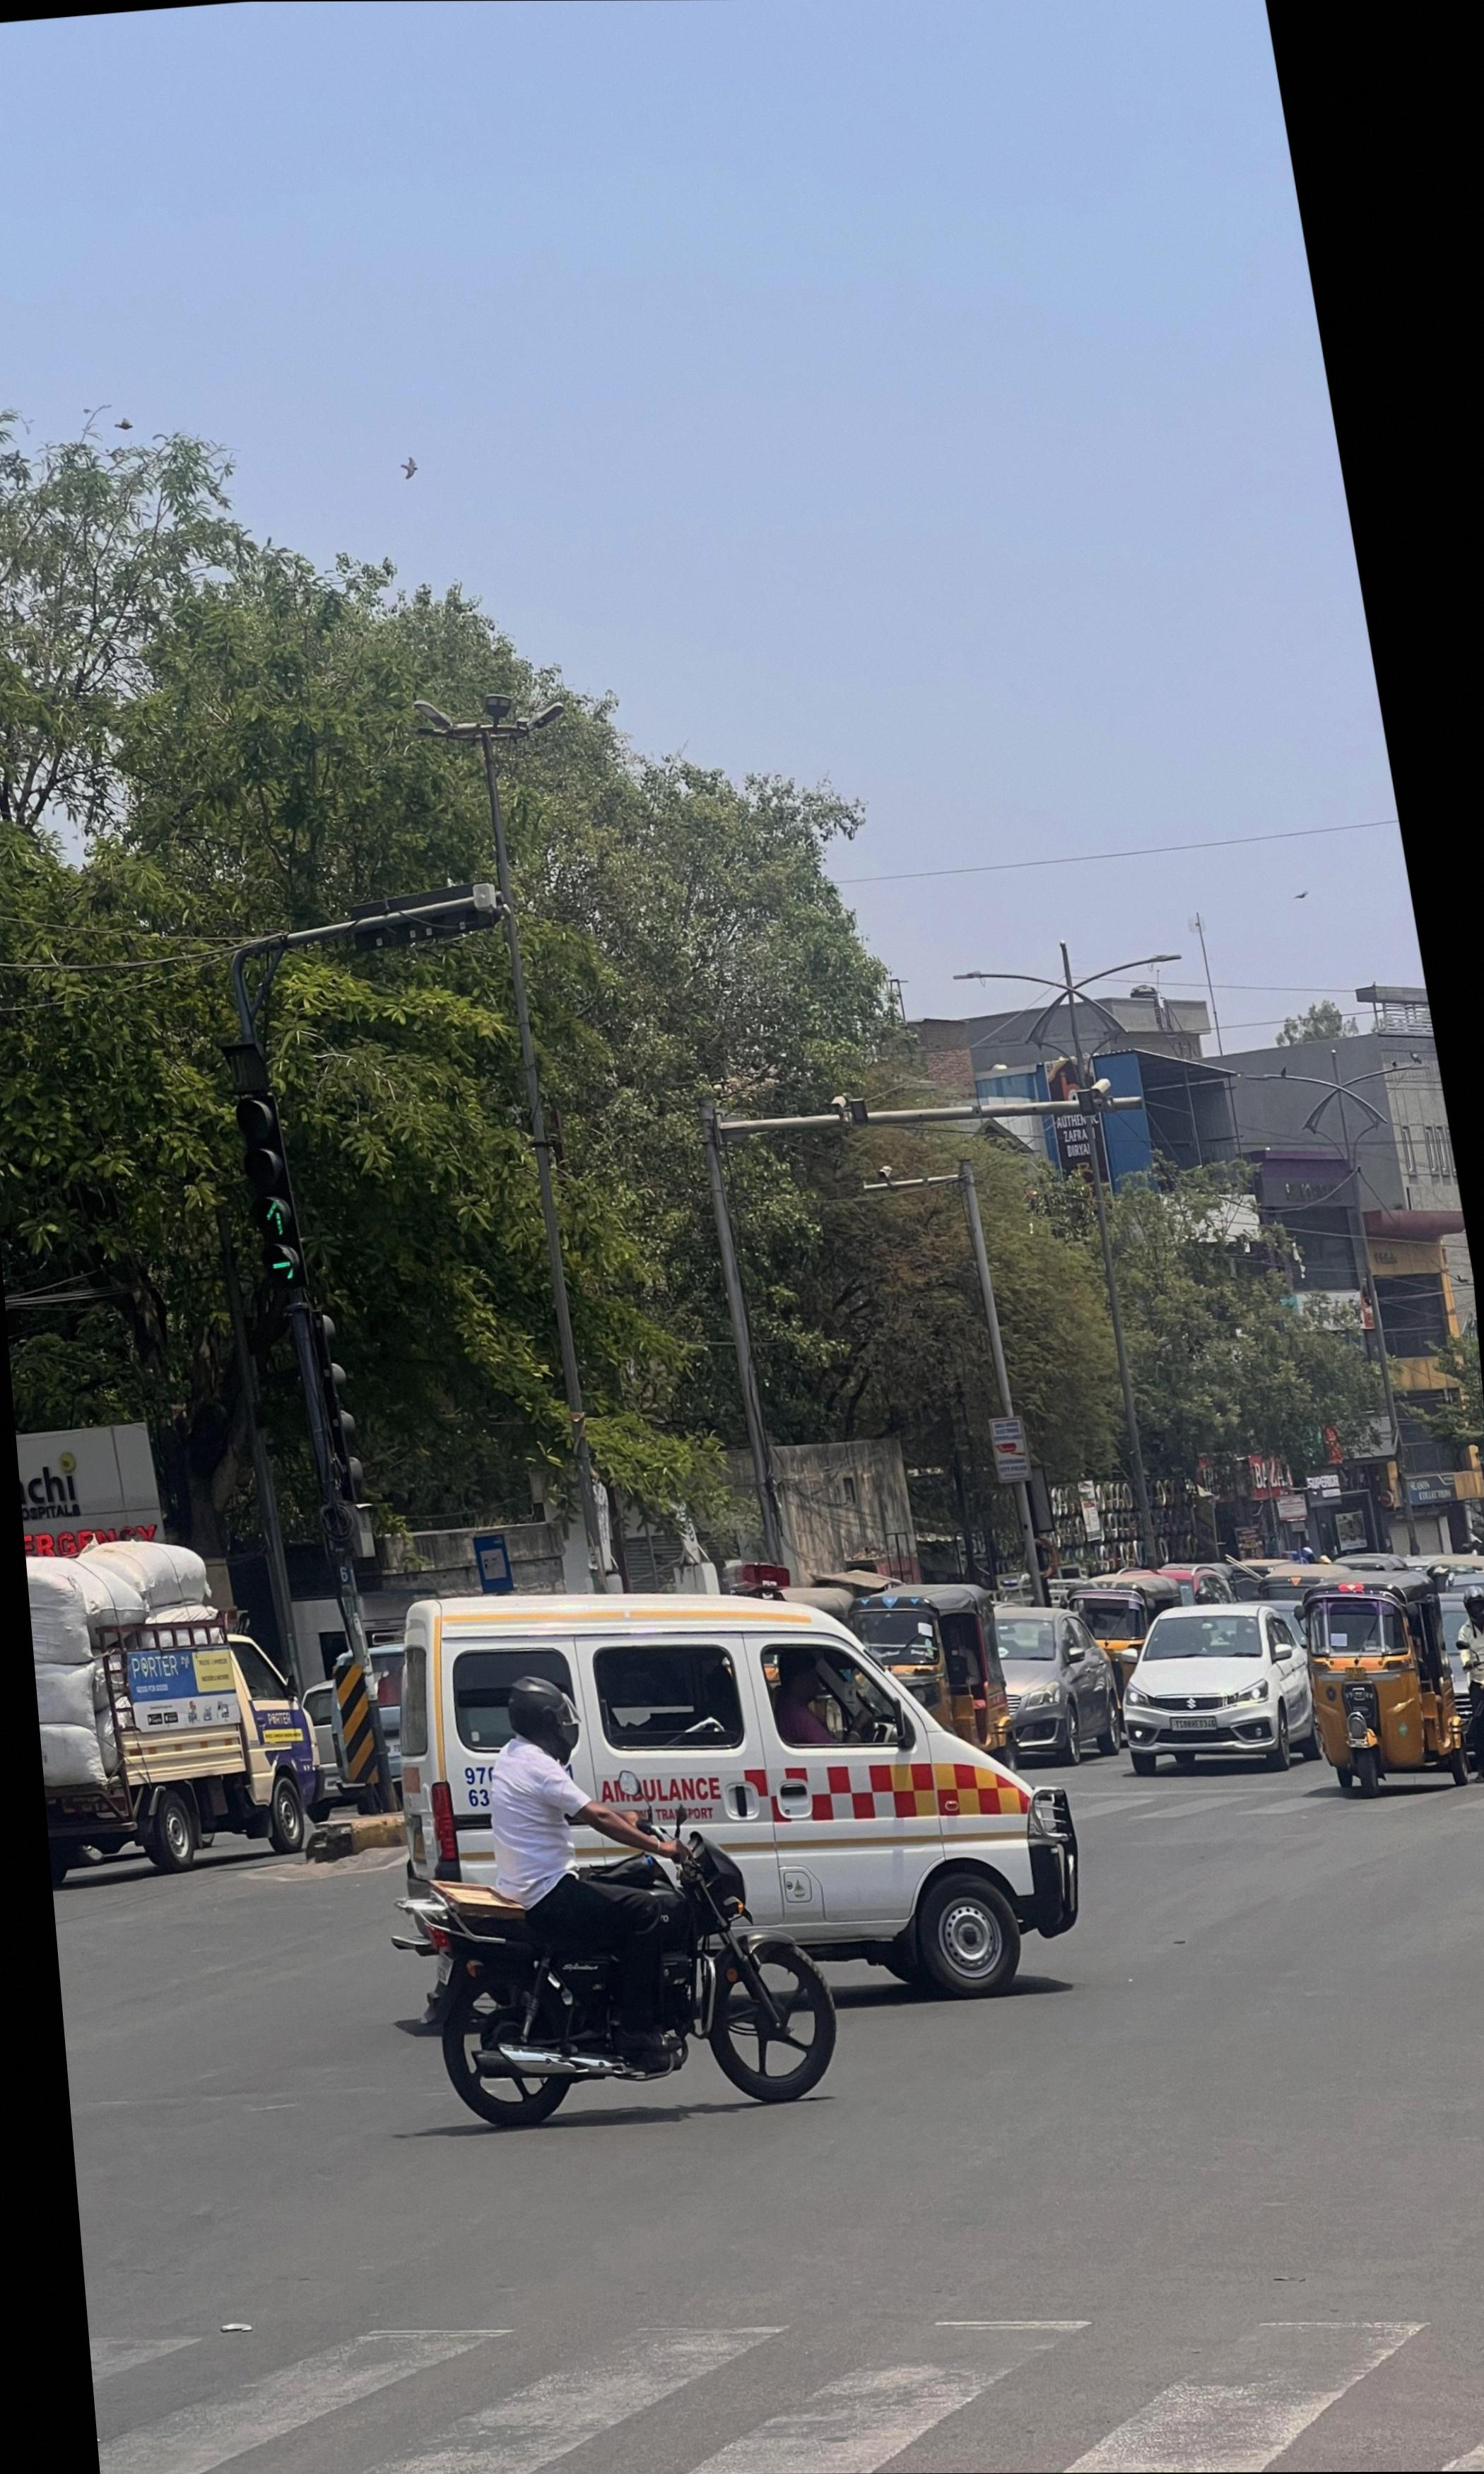ambulance: (399, 1594, 1078, 2006)
